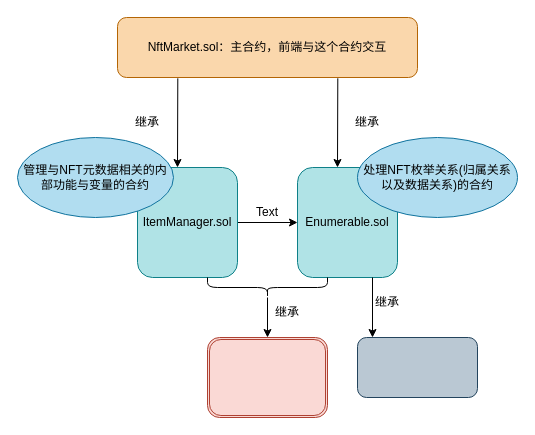
Some shapes in this 535 by 435 pixel diagram are drawn without their labels. Each missing label, with the centre of its shape:
ERC721Enumerable: (417,367)
ERC721storageURI: (267,377)
